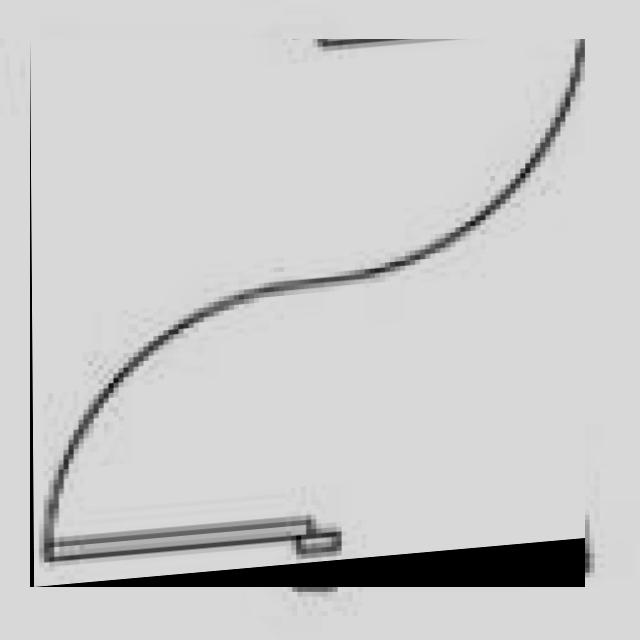door: (30, 39, 585, 587)
